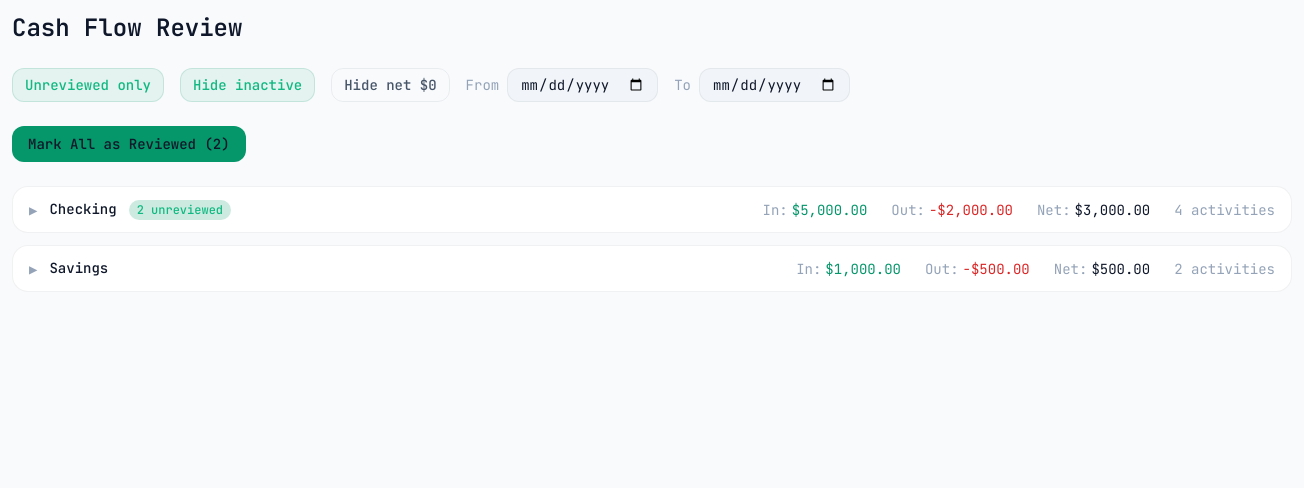
CashFlowReviewPage › clicking a type cell opens a select for that cell only
The image size is (1304, 488).
Click the button with test id "account-row-acc-1" at [83, 209], box [13, 187, 1291, 232]
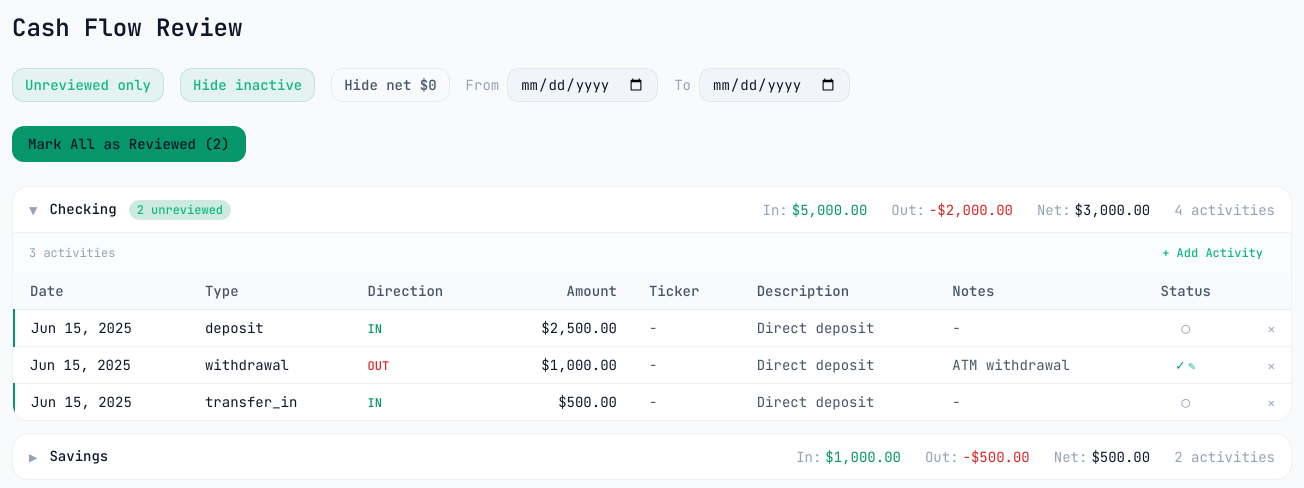
Now the row with test id "activity-row-act-1" is shown, box [14, 310, 1291, 346]
Click the text with test id "type-cell-act-1" at [234, 328], box [201, 319, 268, 337]
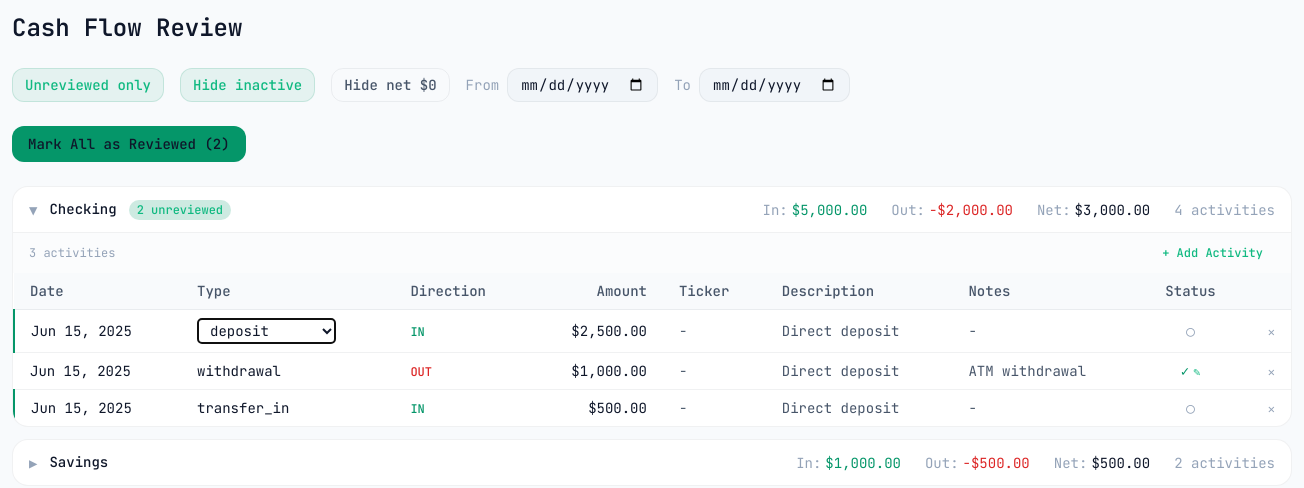
Now the dropdown with test id "edit-type" is shown, box [197, 318, 336, 344]
